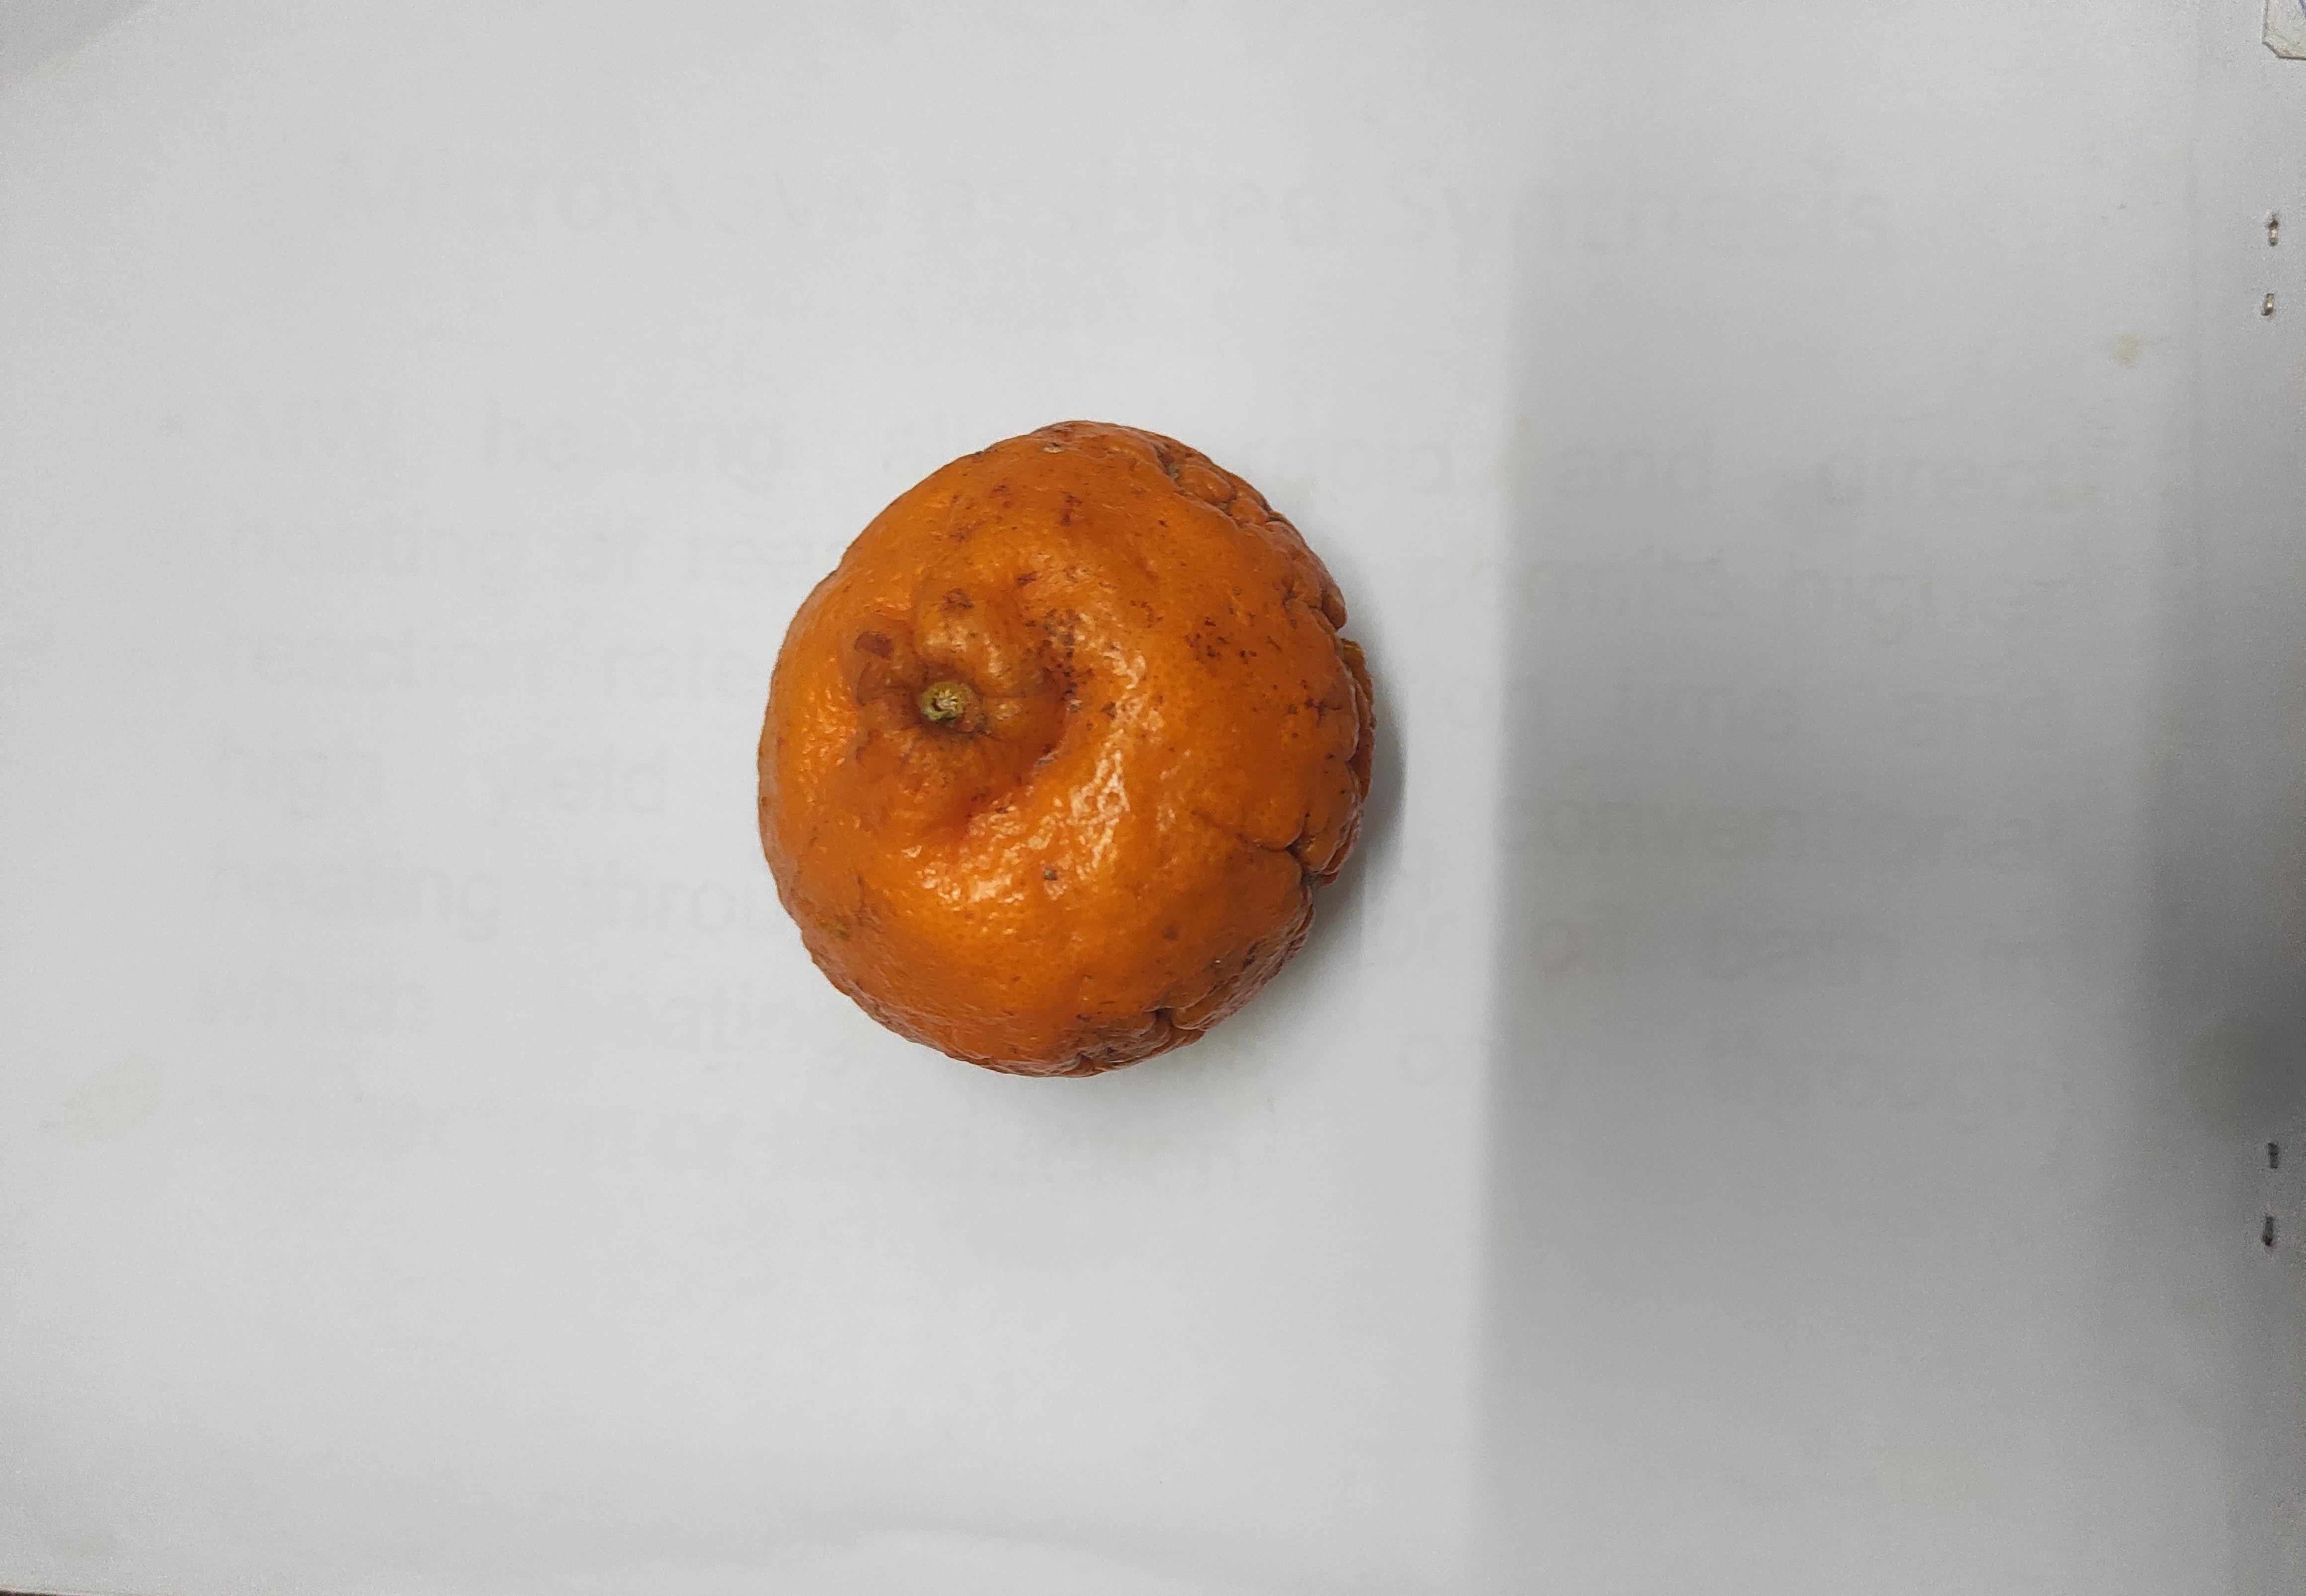Unripe: (755, 427, 1367, 1083)
